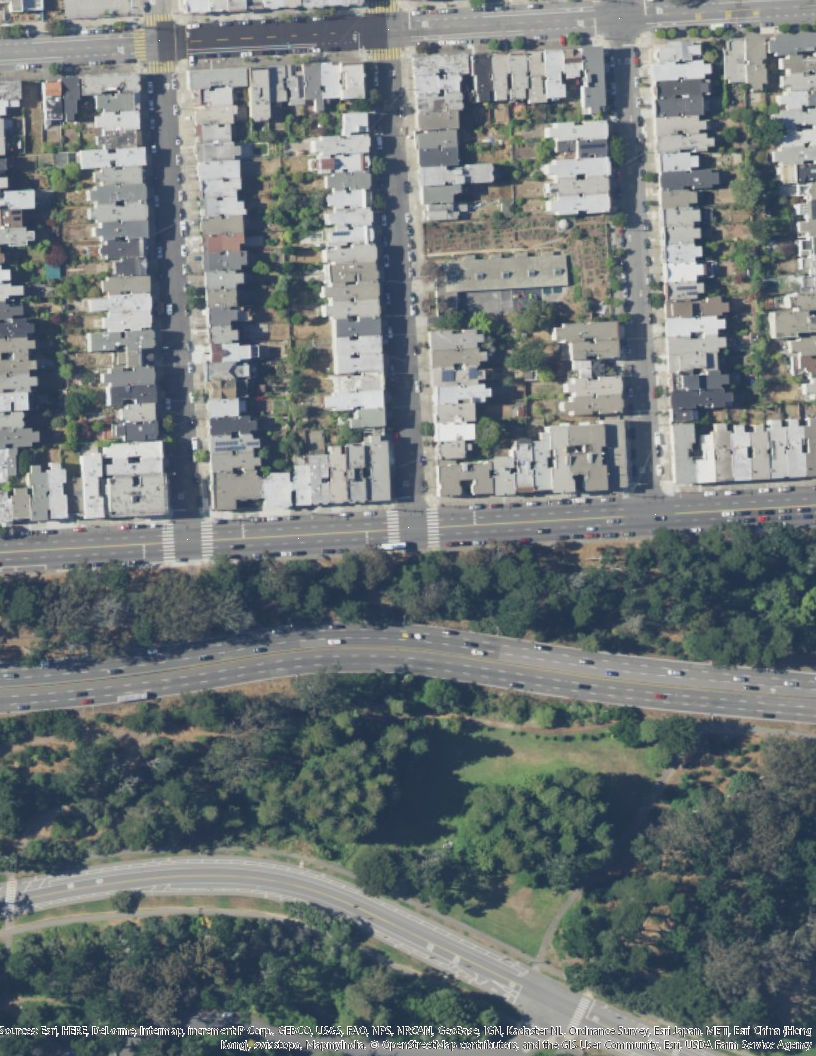zebracross: (425, 509, 440, 549), (131, 28, 146, 63), (161, 524, 175, 561), (386, 510, 401, 544), (200, 520, 213, 558), (368, 48, 404, 61), (367, 1, 399, 14), (144, 14, 175, 27), (147, 61, 178, 74)
